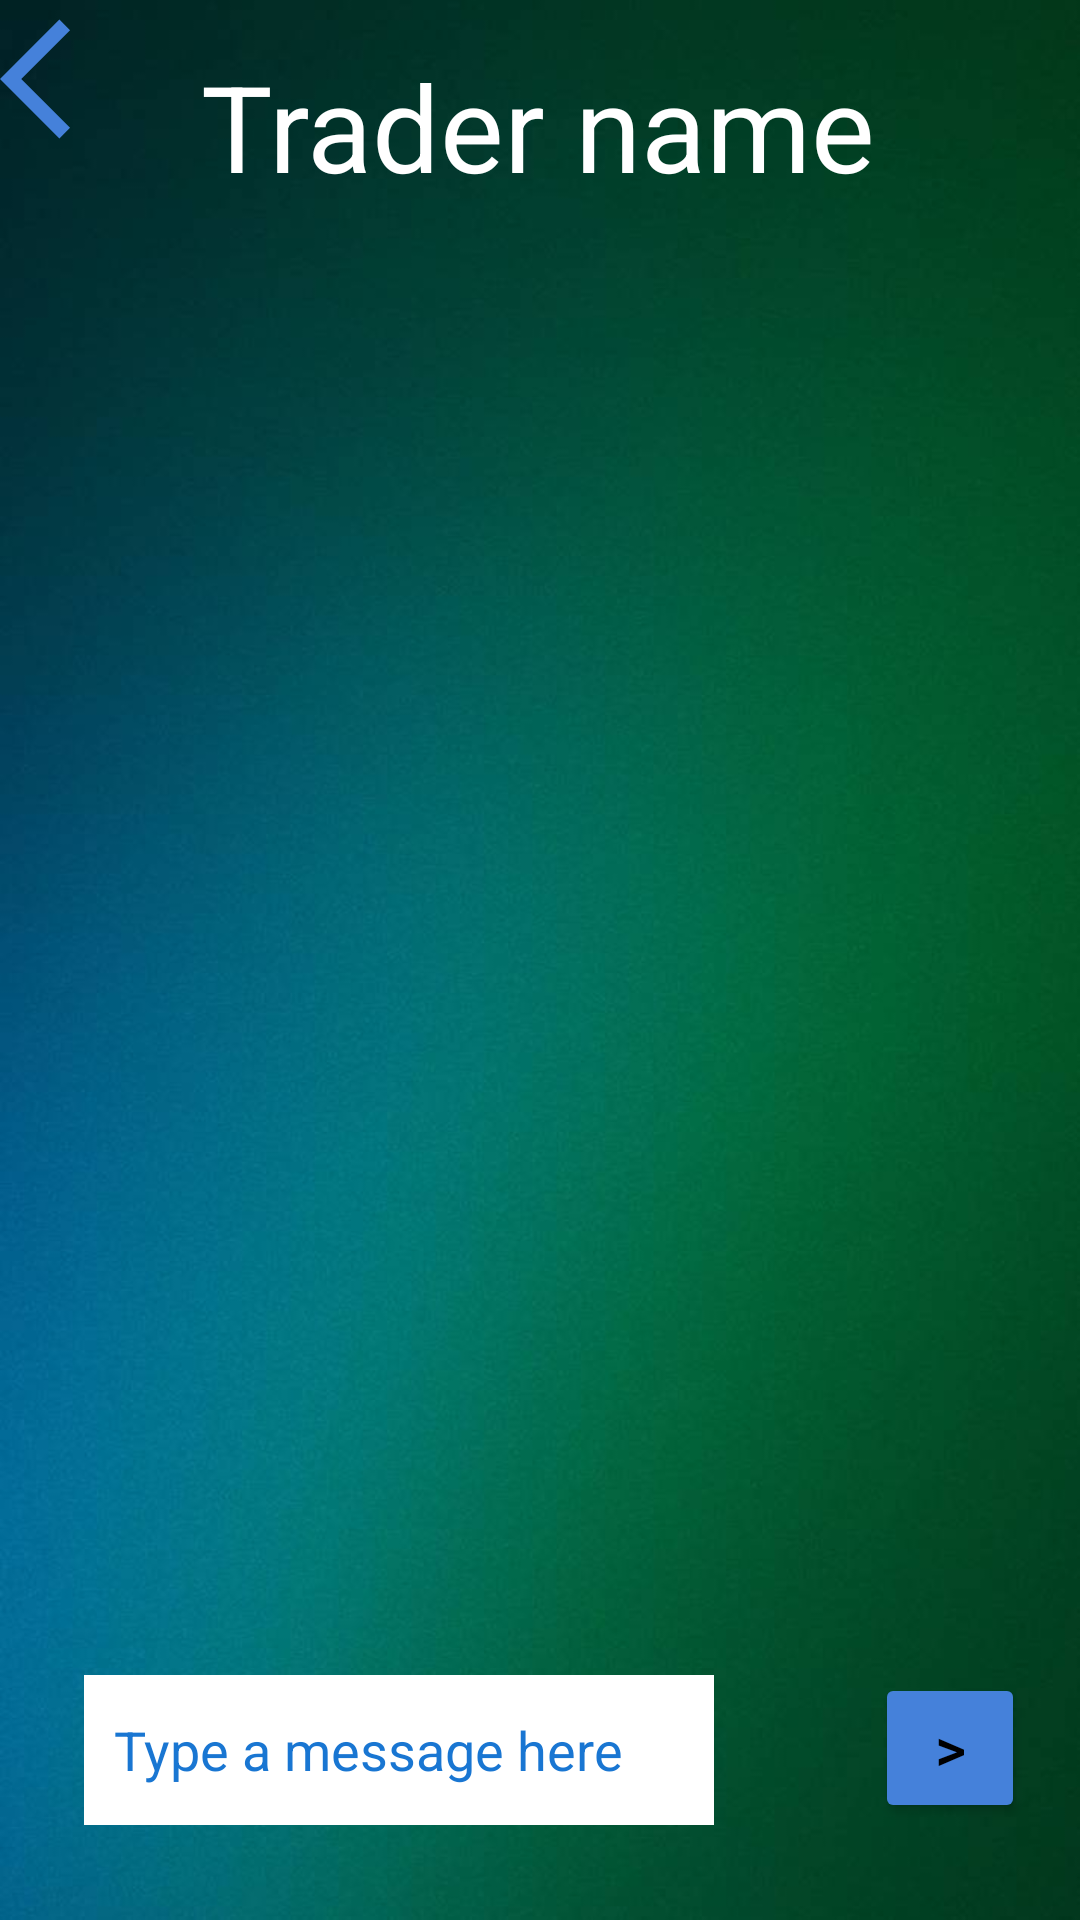

Where to tap for icons on this 1080*1920 app screen, as [x,y]:
Back button: [35,79]
